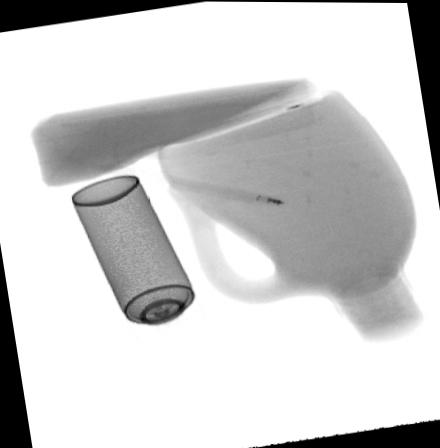Sprayer: (69, 174, 216, 356)
